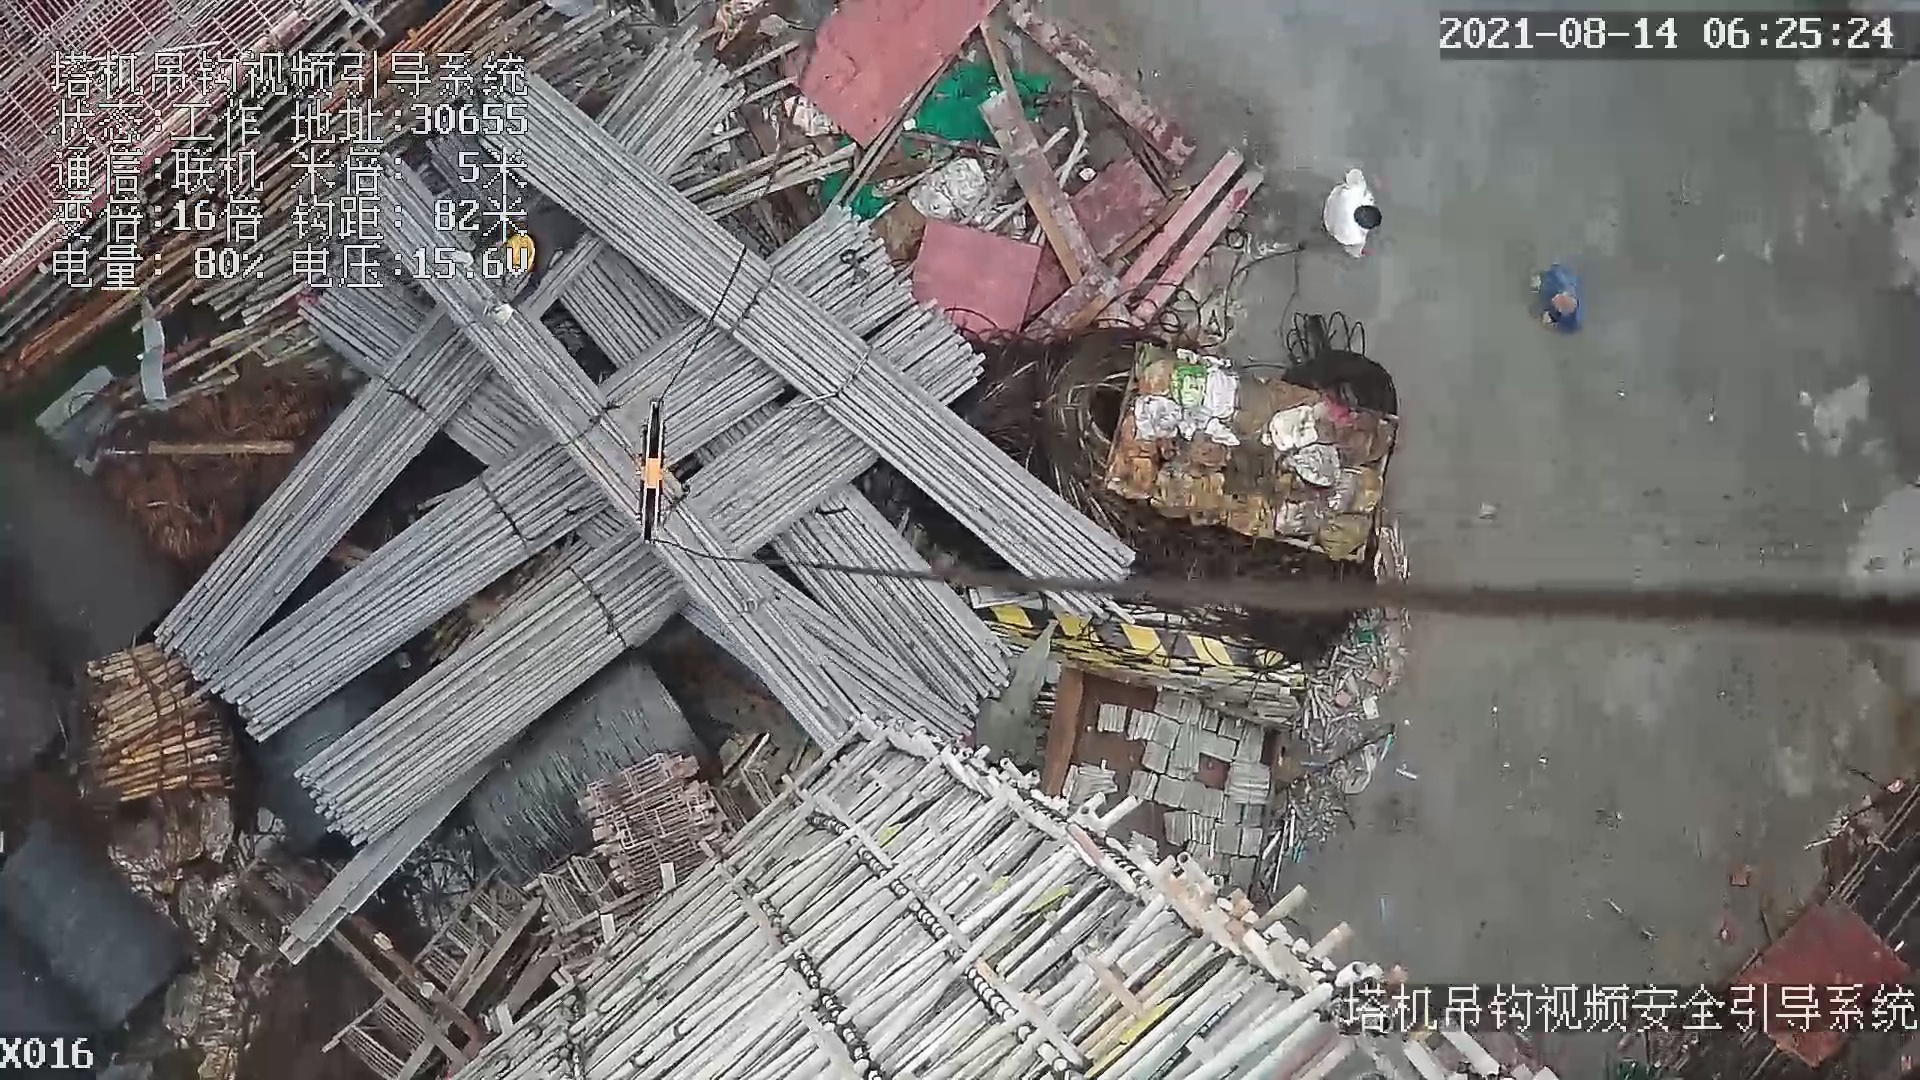helmet: (504, 231, 535, 274)
hook: (632, 395, 672, 547)
person: (1323, 156, 1382, 262), (481, 221, 541, 319), (1535, 263, 1586, 339)
